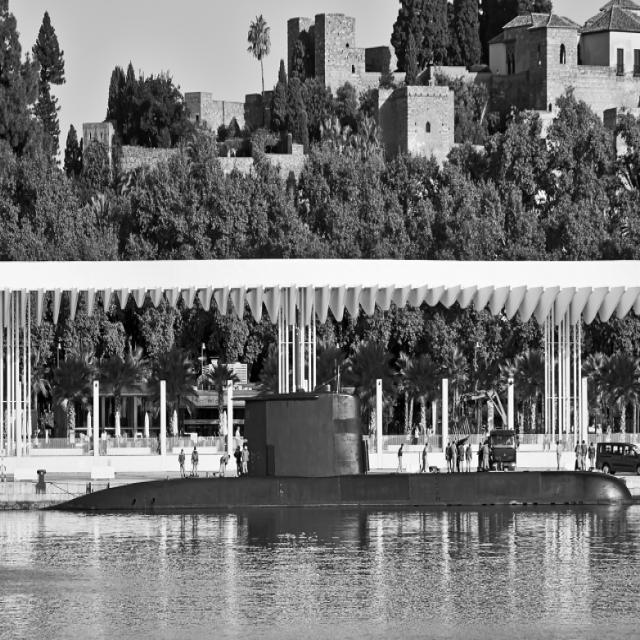submarine: (52, 395, 634, 511)
